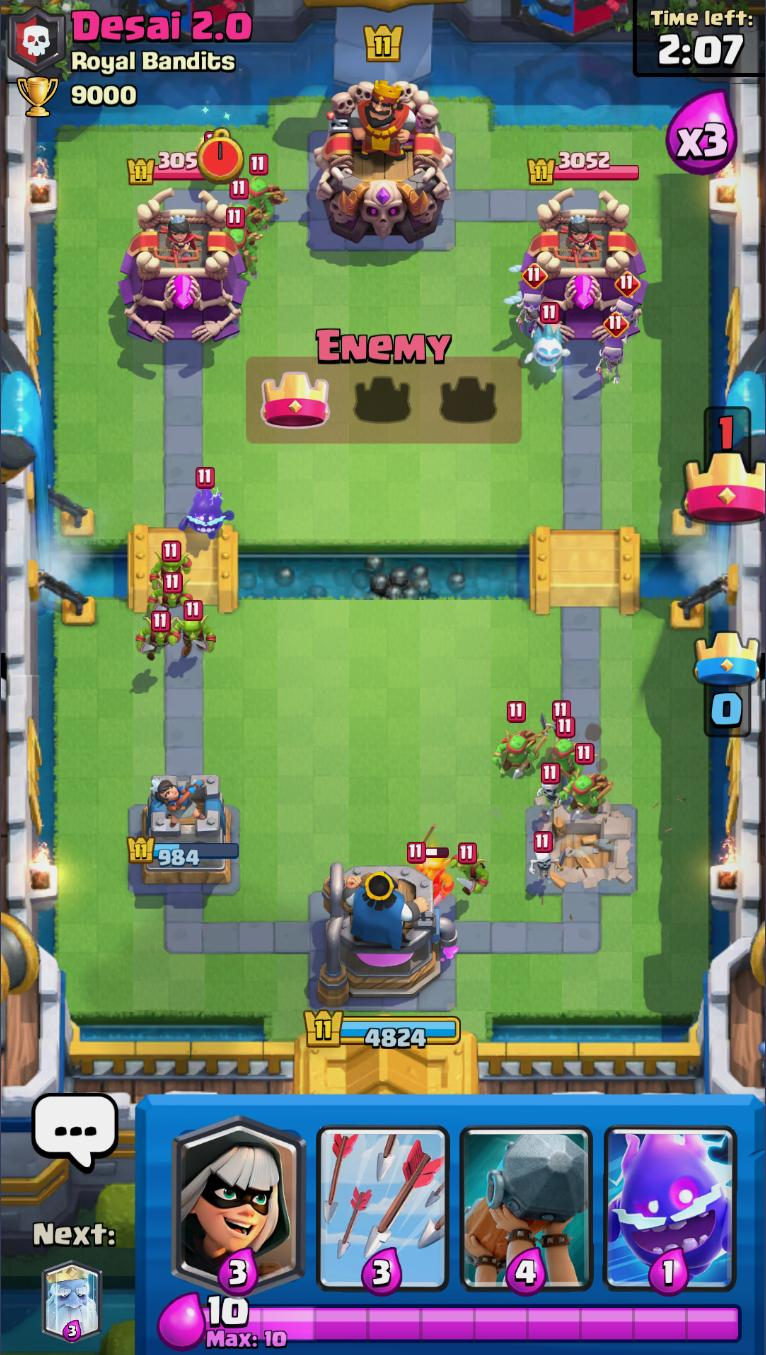ArrowDeck: (309, 1098, 457, 1292)
BanditDeck: (165, 1096, 315, 1295)
BattleRamDeck: (453, 1098, 600, 1292)
ElectroSpirit: (180, 466, 236, 540)
ElectroSpiritDeck: (597, 1099, 745, 1292)
Elixir: (206, 1292, 251, 1330)
EnemyTower: (518, 186, 650, 344), (121, 187, 249, 342)
EvoSkeleton: (513, 263, 554, 334), (596, 311, 631, 383), (608, 271, 641, 336)
Goblin: (410, 844, 454, 906), (174, 601, 218, 659), (136, 609, 180, 664), (148, 541, 193, 591), (455, 839, 486, 904), (149, 574, 195, 614)
IceSpirit: (525, 303, 573, 382)
KingTower: (309, 78, 456, 245)
MyKingHP: (301, 1001, 464, 1051)
MyKingTower: (314, 860, 460, 1009)
MyPrincessTower: (129, 771, 243, 891)
MyPrincessTowerBrocken: (529, 795, 643, 892)
MyPrincessTowerHP: (127, 837, 240, 865)
PrincessTower: (155, 210, 207, 267), (555, 213, 605, 267)
RoyaleGhostNext: (41, 1255, 103, 1344)
Skeleton: (525, 831, 563, 884), (535, 761, 566, 818)
SpearGoblin: (494, 700, 541, 774), (562, 745, 608, 818), (240, 154, 286, 226), (222, 212, 260, 278), (546, 719, 584, 775), (228, 178, 262, 234)
TowerPrincessHP: (529, 151, 642, 186), (126, 151, 200, 186)
